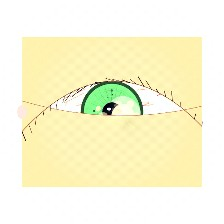corneal_ulcer: (100, 100, 146, 137)
